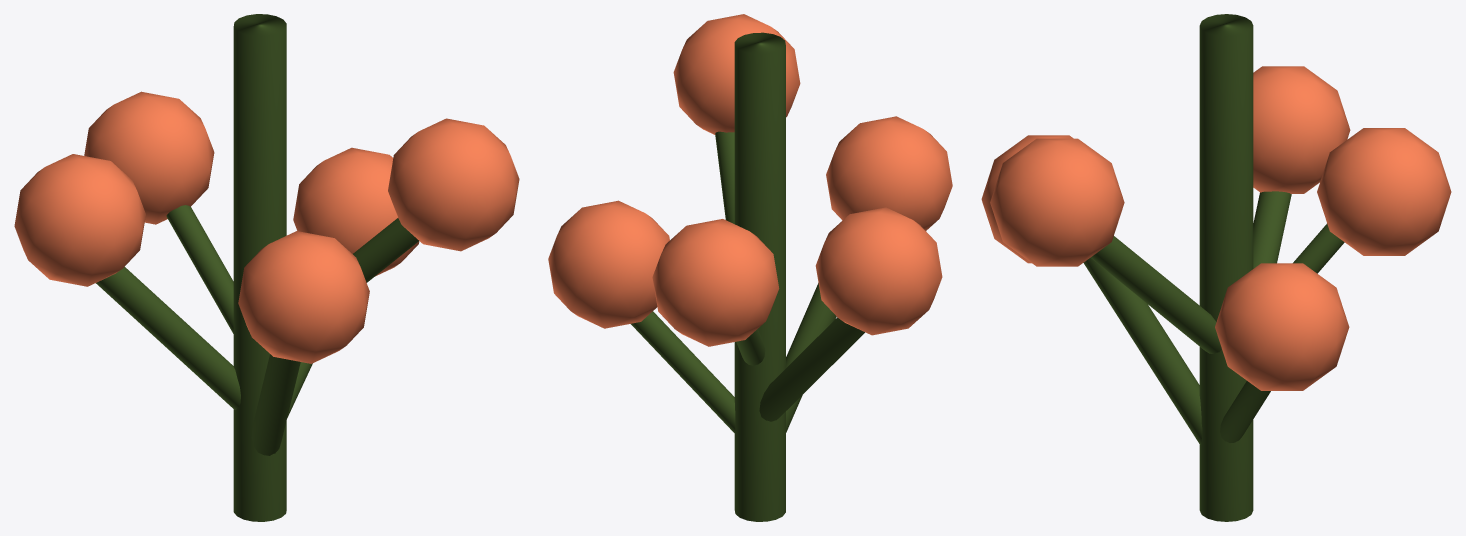
File: Flower.glb
The picture shows the model from 3 angles, left to right: view 1: azimuth 30°, elevation 25°; view 2: azimuth 150°, elevation 25°; view 3: azimuth 270°, elevation 25°; orthographic projection. The views are drawn at different scales.
Parts seen in each view (by area): view 1: flower, Icosphere.004, Icosphere.002, Icosphere.001, Icosphere.005, Icosphere.003, flower.001, flower.003, flower.002, flower.005; view 2: flower, Icosphere.001, Icosphere.005, Icosphere.003, Icosphere.002, Icosphere.004, flower.001, flower.004, flower.002, flower.005, flower.003; view 3: flower, Icosphere.004, Icosphere.003, Icosphere.005, Icosphere.001, flower.002, flower.005, flower.001, flower.004, Icosphere.002, flower.003.
Part boxes in pixels (box(x1,y1,x2,y2)): flower: box(233, 14, 286, 521); Icosphere.004: box(388, 118, 519, 251); Icosphere.002: box(238, 231, 369, 363); Icosphere.001: box(14, 154, 145, 286); Icosphere.005: box(84, 91, 214, 224); Icosphere.003: box(293, 147, 419, 276); flower.001: box(96, 267, 240, 409); flower.003: box(166, 205, 233, 333); flower.002: box(251, 354, 300, 455); flower.005: box(353, 218, 418, 282); flower: box(734, 32, 785, 521); Icosphere.001: box(815, 207, 942, 335); Icosphere.005: box(652, 219, 779, 346); Icosphere.003: box(548, 200, 669, 328); Icosphere.002: box(826, 116, 952, 230); Icosphere.004: box(673, 14, 800, 134); flower.001: box(759, 317, 864, 421); flower.004: box(631, 311, 735, 433); flower.002: box(786, 283, 836, 432); flower.005: box(715, 131, 734, 223); flower.003: box(736, 329, 765, 365); flower: box(1199, 14, 1253, 521); Icosphere.004: box(990, 138, 1124, 266); Icosphere.003: box(1215, 263, 1349, 390); Icosphere.005: box(1317, 128, 1451, 255); Icosphere.001: box(1253, 66, 1350, 193); flower.002: box(1083, 257, 1202, 444); flower.005: box(1091, 236, 1221, 353); flower.001: box(1253, 191, 1291, 268); flower.004: box(1220, 381, 1270, 442); Icosphere.002: box(981, 135, 1073, 263); flower.003: box(1293, 223, 1344, 273).
Size of the model in its own units: 1.68 by 2 by 1.76.
